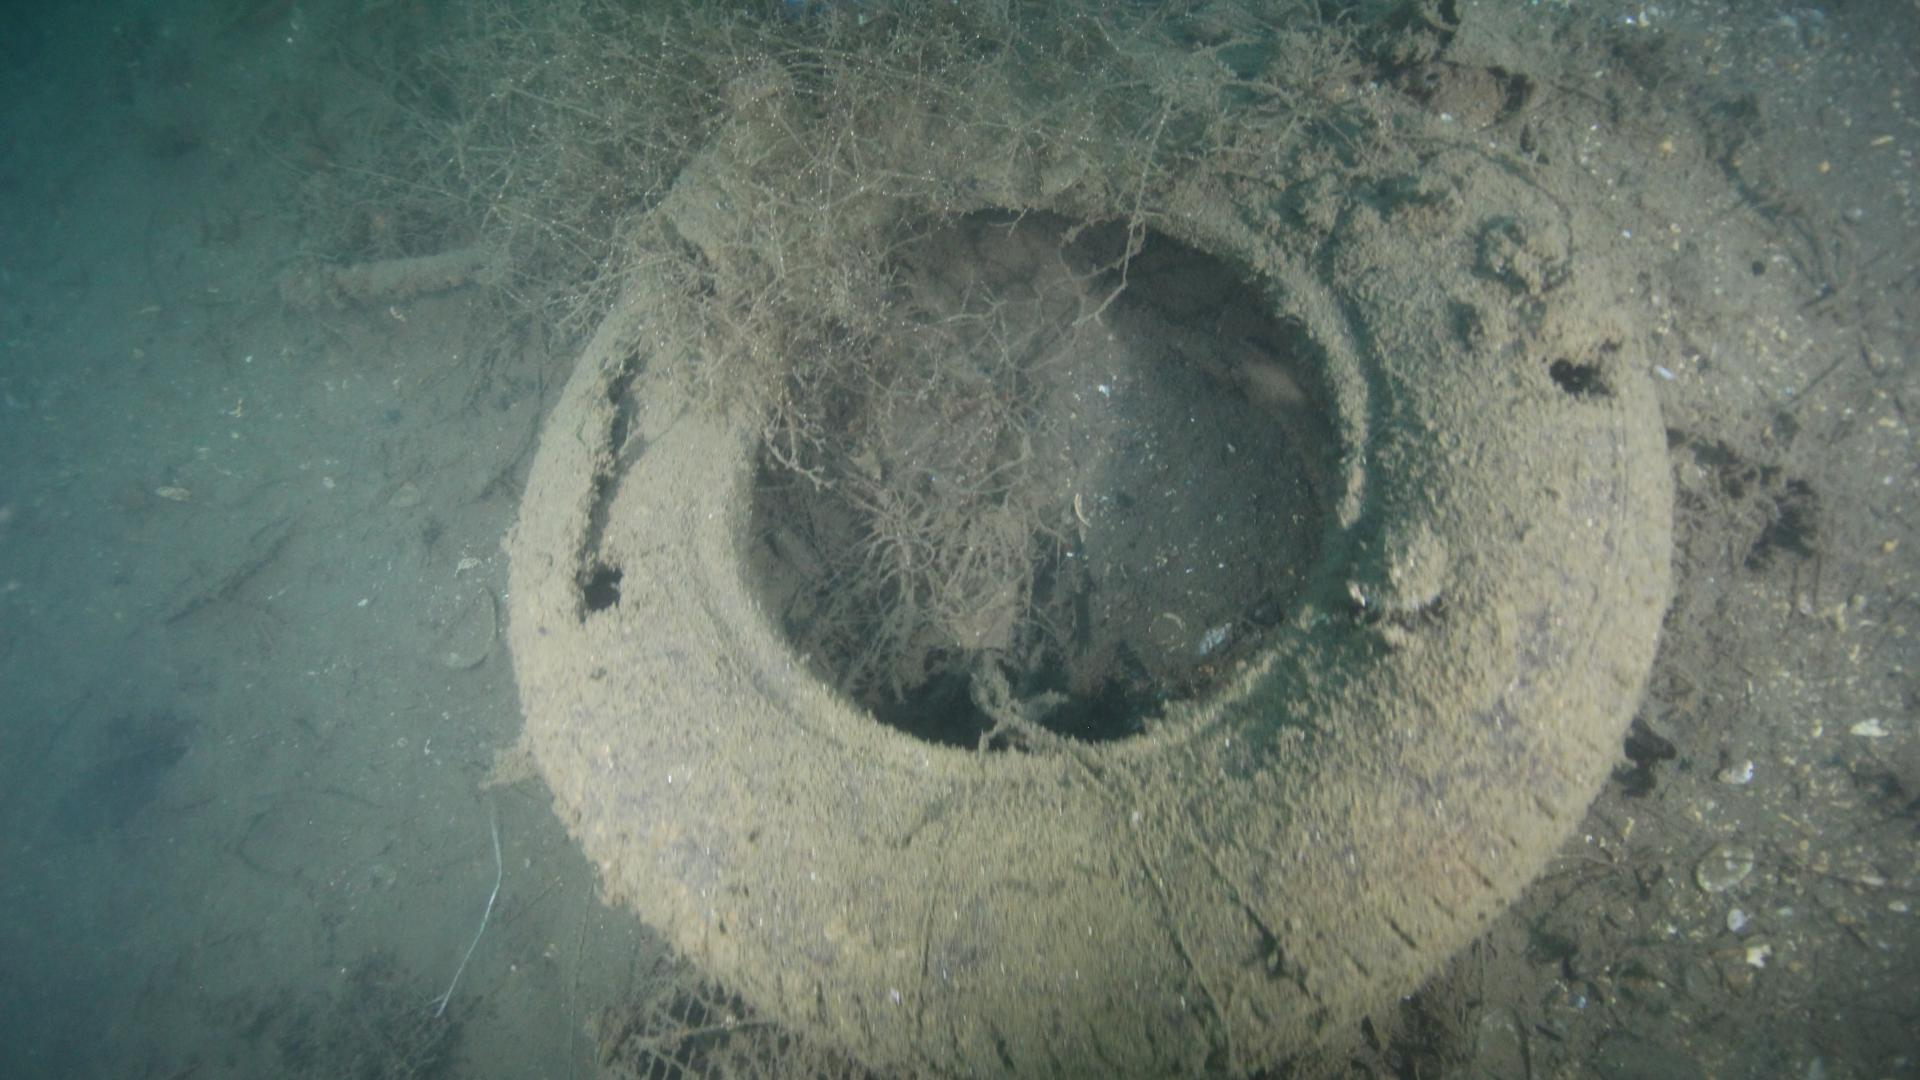tire: (502, 7, 1675, 1075)
